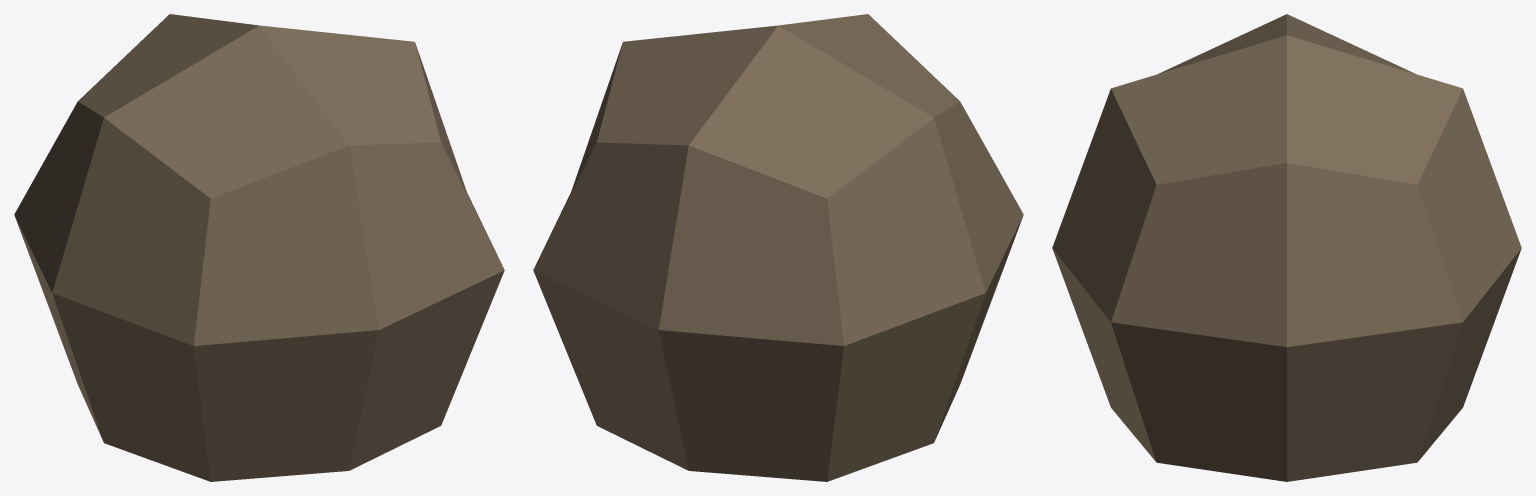
The model's file is rock.fbx.
3 renders of one model, left to right at view 1: azimuth 30°, elevation 25°; view 2: azimuth 150°, elevation 25°; view 3: azimuth 270°, elevation 25°, orthographic.
Visible parts, largest first — view 1: Cube; view 2: Cube; view 3: Cube.
Boxes of the visible parts, x1,y1,x2,y2 form: Cube: [14, 14, 504, 481]; Cube: [533, 14, 1023, 481]; Cube: [1052, 14, 1521, 481].
Bounding box in the file's own units: 200 × 175 × 200.
